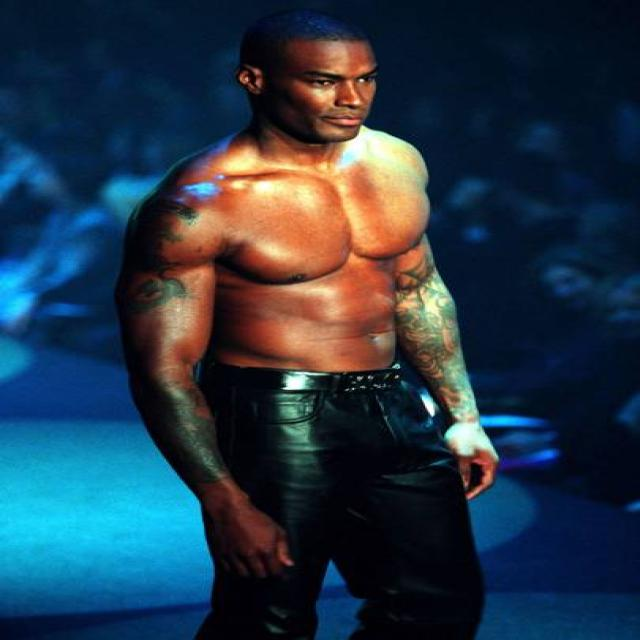human: (109, 9, 513, 640)
